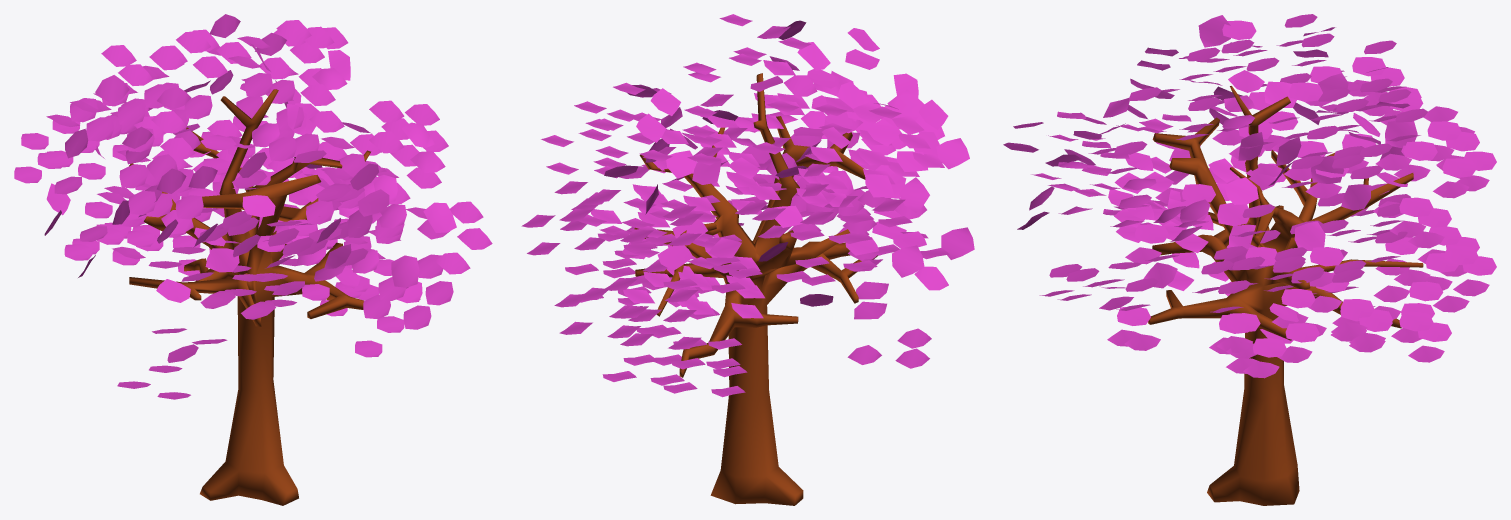
Rendered from baum_b006.FBX.
3 renders of one model, left to right at view 1: azimuth 30°, elevation 25°; view 2: azimuth 150°, elevation 25°; view 3: azimuth 270°, elevation 25°, orthographic.
Visible parts, largest first — view 1: Baum_B006; view 2: Baum_B006; view 3: Baum_B006.
Boxes of the visible parts, <box> form: Baum_B006: <box>14,14,492,505</box>; Baum_B006: <box>521,14,974,505</box>; Baum_B006: <box>1003,14,1496,505</box>.
Size of the model in its own units: 33.35 by 37.38 by 35.98.
